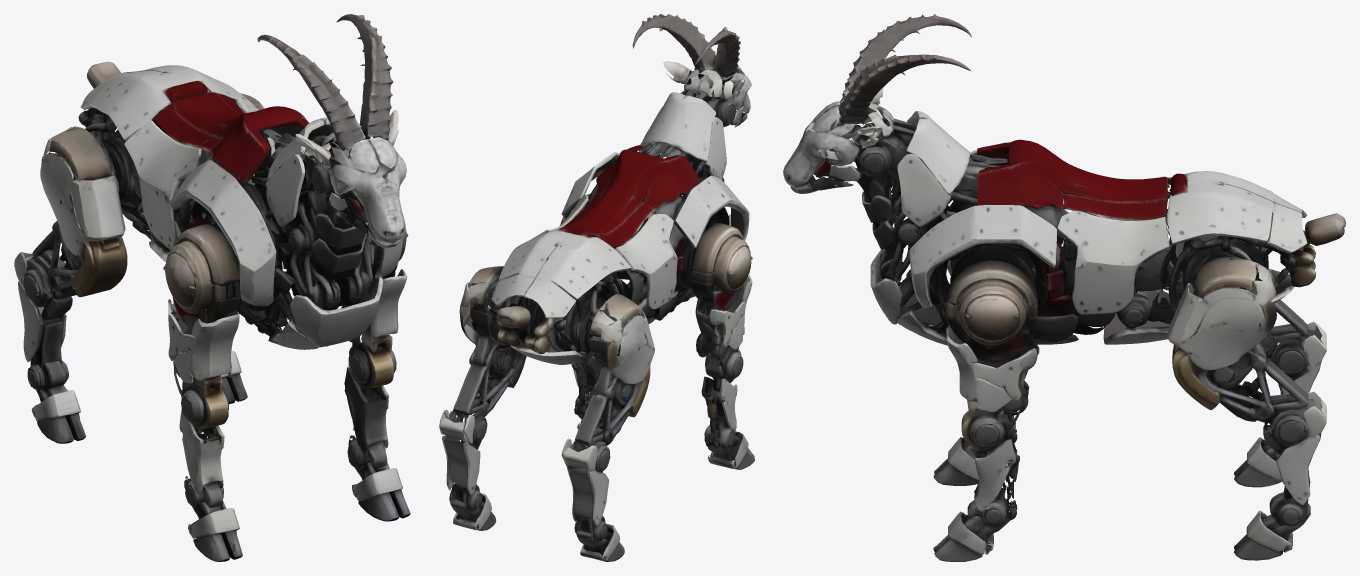
Rendered from mecha_06.glb.
The picture shows the model from 3 angles, left to right: view 1: azimuth 30°, elevation 25°; view 2: azimuth 150°, elevation 25°; view 3: azimuth 270°, elevation 25°; orthographic projection. The views are drawn at different scales.
Visible parts, largest first — view 1: part_001_FRONT_SHIN_L, part_007_HULL_CORE, part_006_REAR_THIGH_L, part_002_FRONT_PAW_R, part_008_HEAD_SENSOR, part_004_REAR_SHIN_L, part_024_SHOULDER_L, part_020_HEAD_SENSOR, part_010_FRONT_THIGH_L, part_003_AFT_REACTOR, part_025_REAR_THIGH_L, part_005_HULL_CORE (+13 smaller); view 2: part_000_REAR_SHIN_R, part_003_AFT_REACTOR, part_007_HULL_CORE, part_001_FRONT_SHIN_L, part_004_REAR_SHIN_L, part_006_REAR_THIGH_L, part_010_FRONT_THIGH_L, part_019_DORSAL_MODULE, part_025_REAR_THIGH_L, part_024_SHOULDER_L, part_018_HEAD_SENSOR, part_012_REAR_PAW_L (+13 smaller); view 3: part_000_REAR_SHIN_R, part_003_AFT_REACTOR, part_002_FRONT_PAW_R, part_007_HULL_CORE, part_009_FRONT_THIGH_R, part_005_HULL_CORE, part_026_REAR_THIGH_R, part_023_SHOULDER_R, part_020_HEAD_SENSOR, part_019_DORSAL_MODULE, part_004_REAR_SHIN_L, part_016_HEAD_SENSOR (+11 smaller).
Part boxes in pixels (bbox=[...]): part_001_FRONT_SHIN_L: bbox=[168, 296, 242, 561]; part_007_HULL_CORE: bbox=[154, 92, 334, 340]; part_006_REAR_THIGH_L: bbox=[40, 114, 136, 255]; part_002_FRONT_PAW_R: bbox=[341, 269, 410, 521]; part_008_HEAD_SENSOR: bbox=[248, 134, 368, 310]; part_004_REAR_SHIN_L: bbox=[14, 171, 127, 361]; part_024_SHOULDER_L: bbox=[168, 160, 276, 306]; part_020_HEAD_SENSOR: bbox=[330, 137, 406, 247]; part_010_FRONT_THIGH_L: bbox=[163, 224, 263, 322]; part_003_AFT_REACTOR: bbox=[80, 65, 255, 188]; part_025_REAR_THIGH_L: bbox=[124, 120, 202, 249]; part_005_HULL_CORE: bbox=[251, 153, 382, 349]; part_000_REAR_SHIN_R: bbox=[439, 266, 526, 530]; part_003_AFT_REACTOR: bbox=[488, 225, 630, 343]; part_007_HULL_CORE: bbox=[558, 145, 730, 283]; part_001_FRONT_SHIN_L: bbox=[691, 274, 754, 469]; part_004_REAR_SHIN_L: bbox=[561, 321, 650, 525]; part_006_REAR_THIGH_L: bbox=[571, 283, 654, 388]; part_010_FRONT_THIGH_L: bbox=[674, 223, 752, 294]; part_019_DORSAL_MODULE: bbox=[638, 92, 716, 175]; part_025_REAR_THIGH_L: bbox=[615, 213, 677, 309]; part_024_SHOULDER_L: bbox=[674, 175, 749, 249]; part_018_HEAD_SENSOR: bbox=[632, 14, 716, 79]; part_012_REAR_PAW_L: bbox=[574, 513, 624, 561]; part_000_REAR_SHIN_R: bbox=[1167, 236, 1326, 560]; part_003_AFT_REACTOR: bbox=[1113, 171, 1307, 326]; part_002_FRONT_PAW_R: bbox=[933, 325, 1039, 561]; part_007_HULL_CORE: bbox=[871, 139, 1168, 287]; part_009_FRONT_THIGH_R: bbox=[945, 245, 1038, 362]; part_005_HULL_CORE: bbox=[870, 168, 1102, 345]; part_026_REAR_THIGH_R: bbox=[1056, 210, 1169, 314]; part_023_SHOULDER_R: bbox=[909, 205, 1056, 307]; part_020_HEAD_SENSOR: bbox=[783, 101, 859, 193]; part_019_DORSAL_MODULE: bbox=[906, 111, 1007, 205]; part_004_REAR_SHIN_L: bbox=[1176, 273, 1326, 429]; part_016_HEAD_SENSOR: bbox=[828, 103, 916, 181].
Bounding box in the file's own units: 0.4369 × 0.944 × 0.9984.
38 materials, 38 textured.
